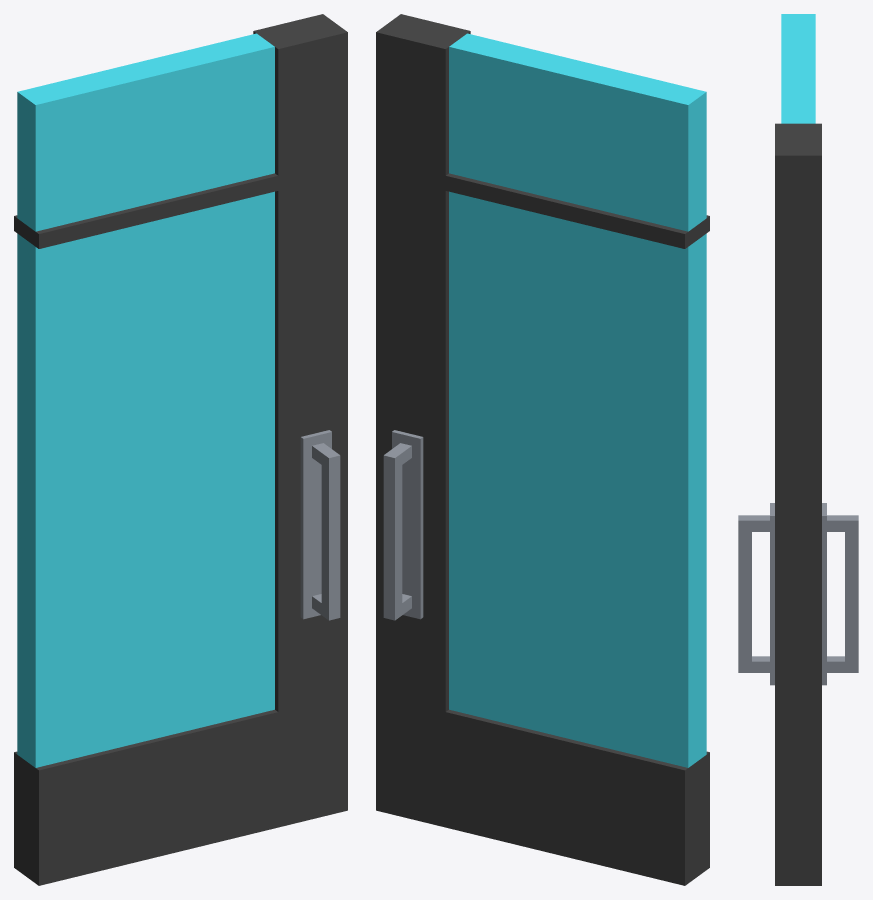
Rendered from SM_Buildings_House_08_Door_L.fbx.
3 renders of one model, left to right at view 1: azimuth 30°, elevation 25°; view 2: azimuth 150°, elevation 25°; view 3: azimuth 270°, elevation 25°, orthographic. The views are drawn at different scales.
Parts seen in each view (by area): view 1: SM_Buildings_House_08_Door_L; view 2: SM_Buildings_House_08_Door_L; view 3: SM_Buildings_House_08_Door_L.
Part boxes in pixels (<box>): SM_Buildings_House_08_Door_L: <box>14,14,347,885</box>; SM_Buildings_House_08_Door_L: <box>376,14,709,885</box>; SM_Buildings_House_08_Door_L: <box>738,14,858,885</box>.
Bounding box in the file's own units: 1.08 × 2.59 × 0.3861.
